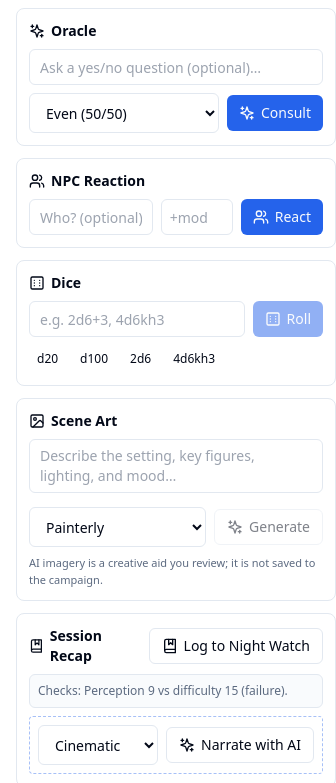
SceneManager — AI-DM turn (RFC 007) › shows the fact-check beside the narration draft and never blocks the log
(page scrolled)
Click the button "Narrate with AI".
click(240, 745)  # box x1=166 y1=727 x2=314 y2=763
(page scrolled)
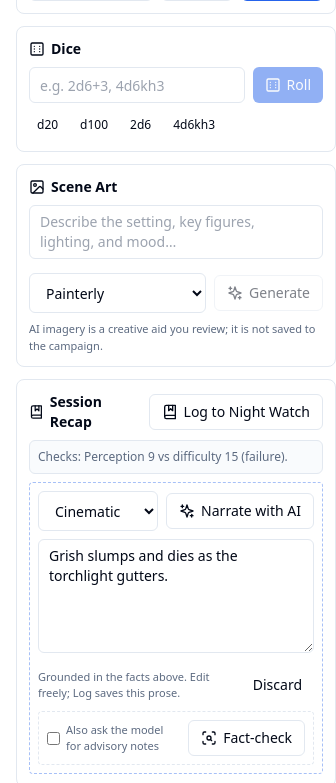
Check: the text box named "AI narration draft" is shown, box x1=38 y1=539 x2=314 y2=653
Click the button "Fact-check".
click(247, 738)  # box x1=188 y1=720 x2=305 y2=756
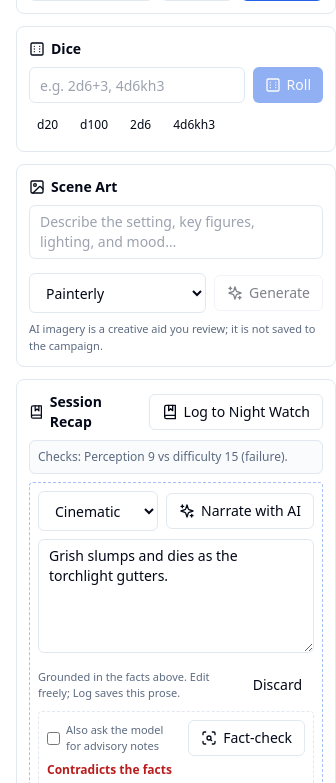
Check: the button "Log to Night Watch" is enabled, box x1=148 y1=394 x2=323 y2=430
Check: the text "Contradicts the facts" is shown, box x1=47 y1=761 x2=172 y2=778
